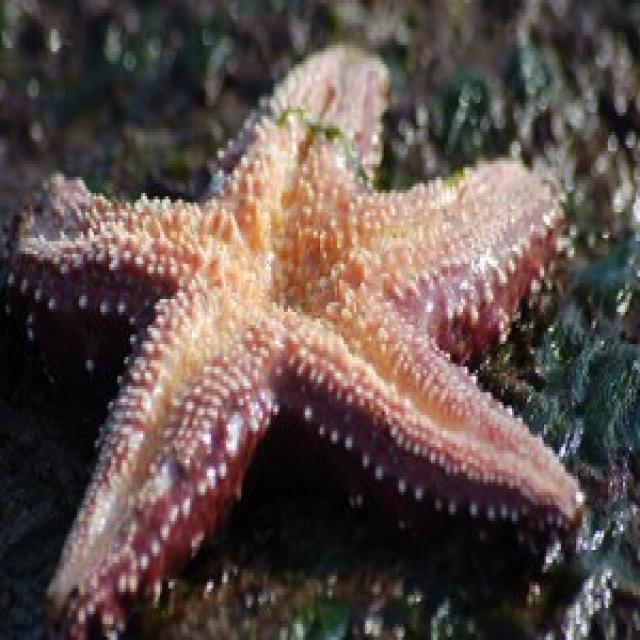Starfish: (12, 26, 591, 631)
